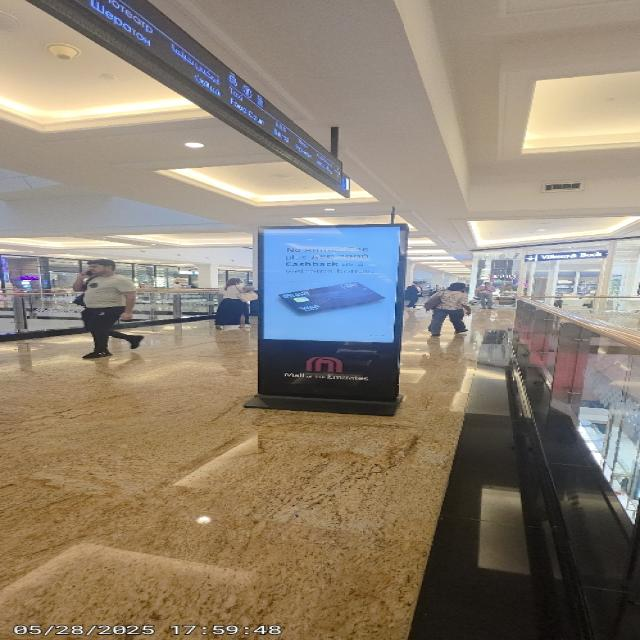mupi: (254, 222, 401, 415)
